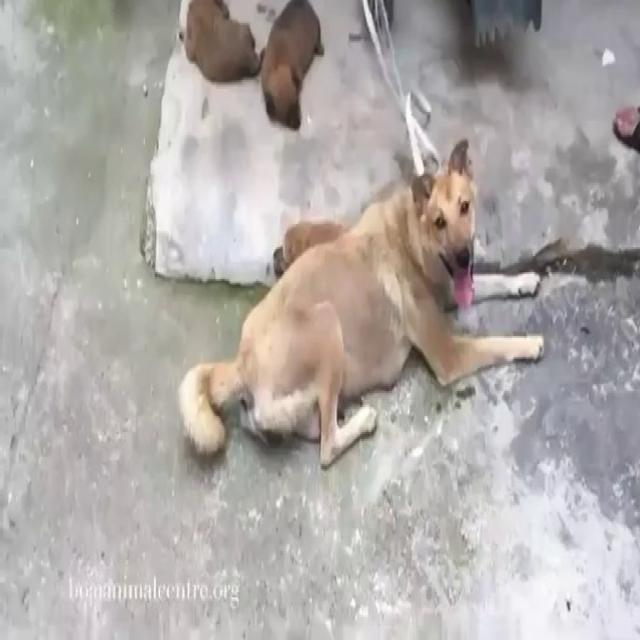normal_animals: (175, 132, 548, 471)
